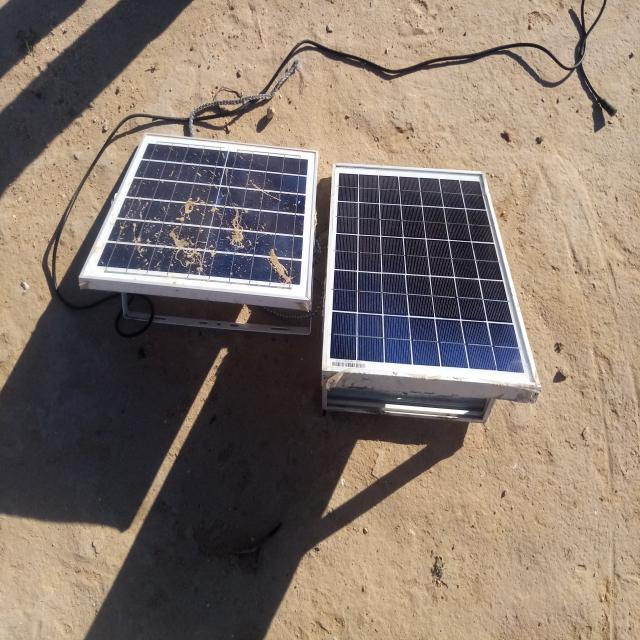faulty: (81, 133, 317, 297)
no faulty: (323, 165, 538, 387)
